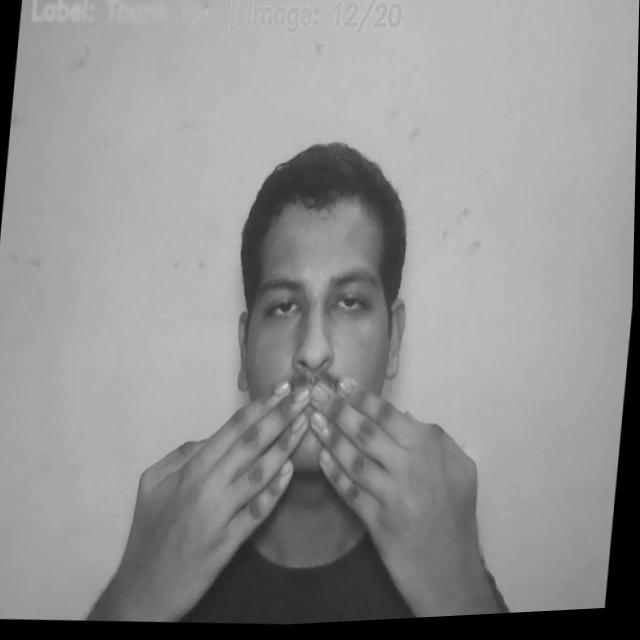Thank You: (132, 358, 476, 606)
